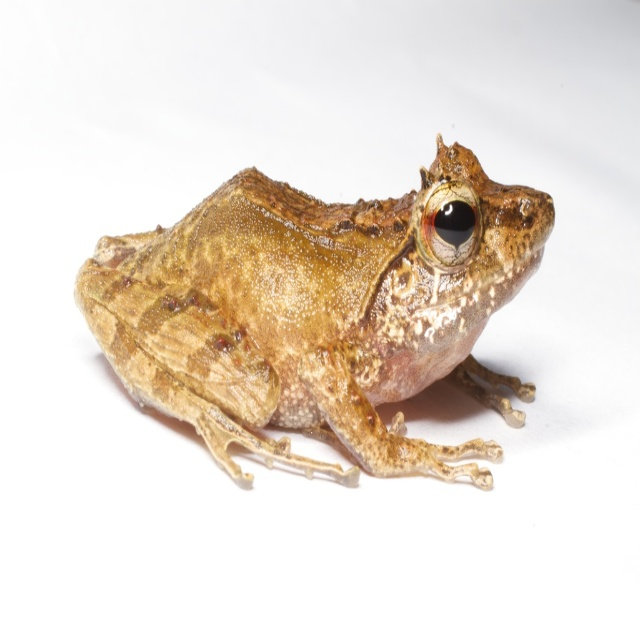Frog: (72, 131, 555, 491)
